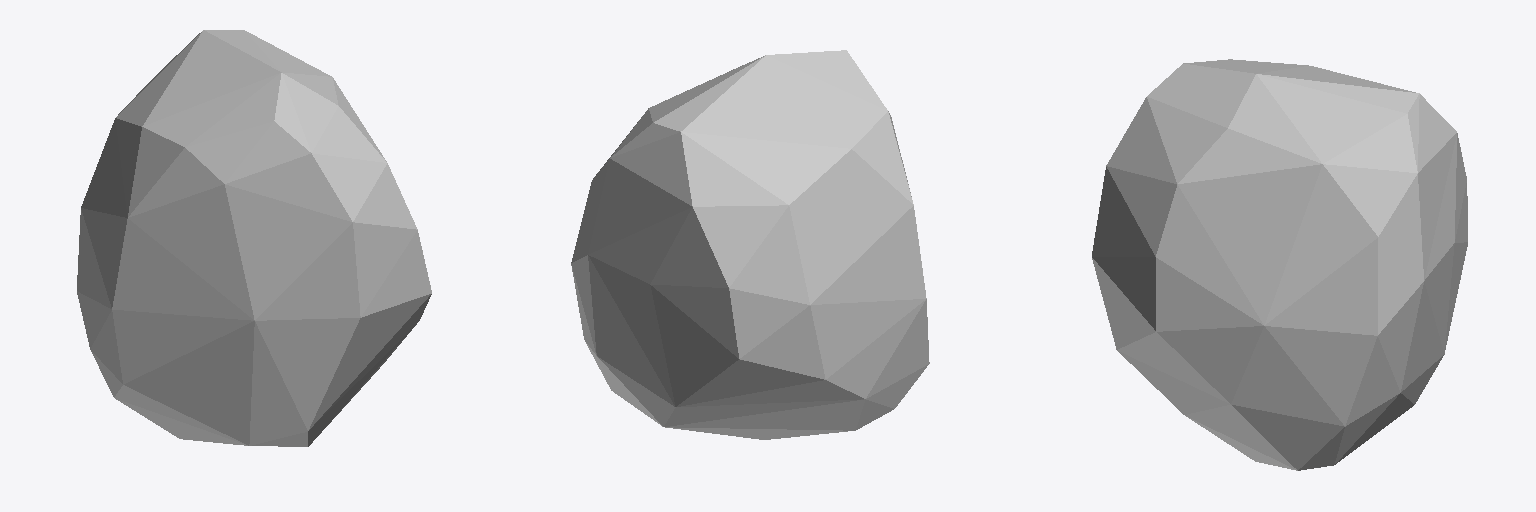
Rendered from Rock3.obj.
3 renders of one model, left to right at view 1: azimuth 30°, elevation 25°; view 2: azimuth 150°, elevation 25°; view 3: azimuth 270°, elevation 25°, orthographic.
Visible parts, largest first — view 1: Cube_Cube.002; view 2: Cube_Cube.002; view 3: Cube_Cube.002.
Boxes of the visible parts, x1=… form: Cube_Cube.002: x1=77, y1=30, x2=431, y2=446; Cube_Cube.002: x1=571, y1=50, x2=929, y2=439; Cube_Cube.002: x1=1092, y1=59, x2=1467, y2=470.
Bounding box in the file's own units: 0.8976 × 1.07 × 0.9681.